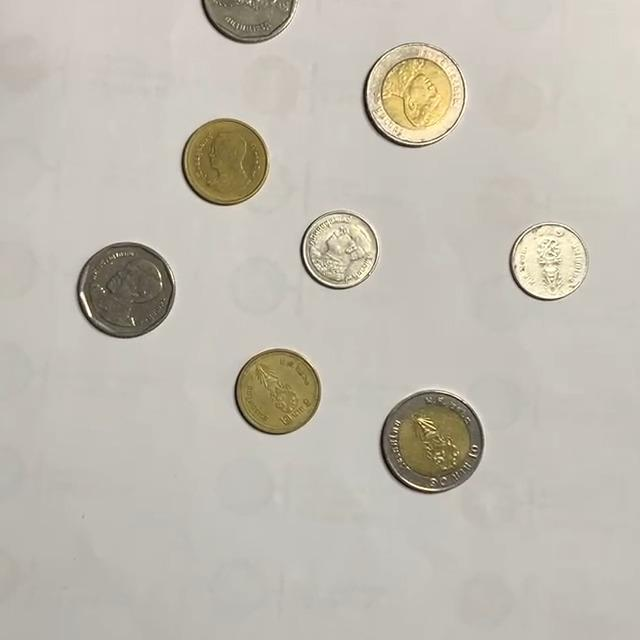1-baht: (509, 221, 591, 301), (301, 211, 380, 290)
10-baht: (365, 43, 468, 147), (381, 390, 487, 491)
2-baht: (182, 118, 270, 206), (235, 349, 322, 435)
5-baht: (78, 241, 177, 338), (201, 0, 300, 44)
